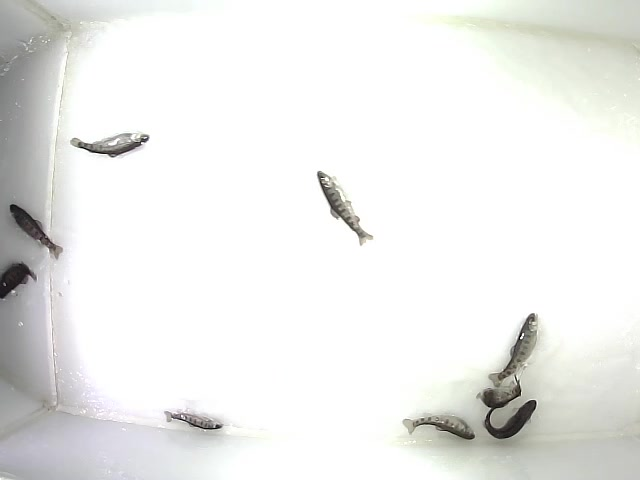fish: (315, 169, 375, 249), (488, 312, 540, 389), (8, 202, 65, 263), (68, 129, 151, 159), (402, 412, 477, 443), (483, 399, 539, 440), (475, 374, 522, 410), (163, 409, 225, 431)
